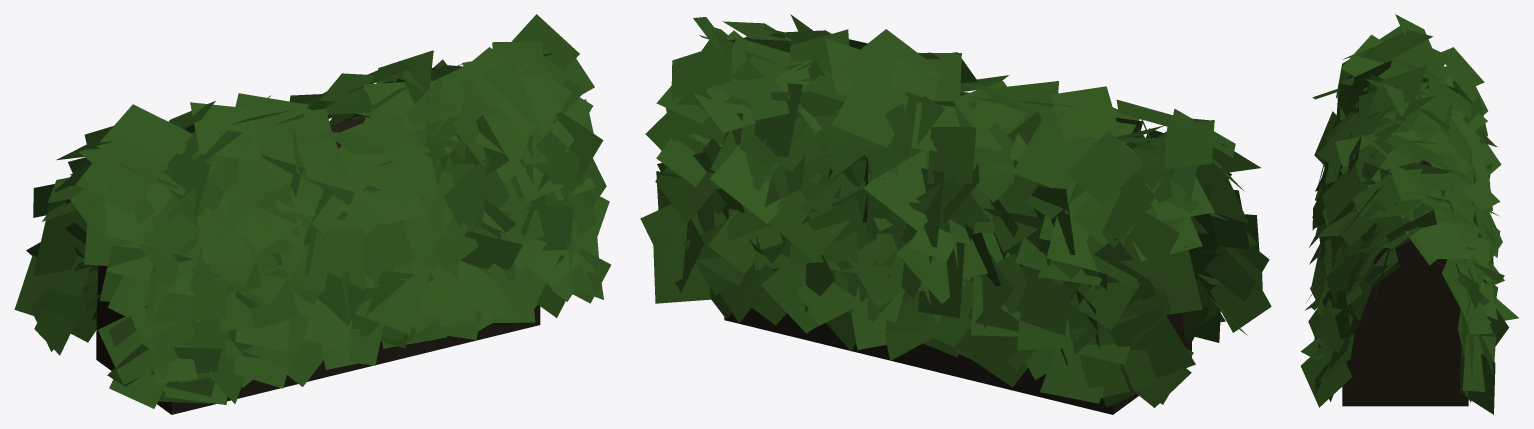
Rendered from hedge_oak.glb.
The picture shows the model from 3 angles, left to right: view 1: azimuth 30°, elevation 25°; view 2: azimuth 150°, elevation 25°; view 3: azimuth 270°, elevation 25°; orthographic projection. The views are drawn at different scales.
Visible parts, largest first — view 1: hedge_oak_lod0; view 2: hedge_oak_lod0; view 3: hedge_oak_lod0.
Part boxes in pixels (x1,y1,x2,y2): hedge_oak_lod0: (14, 14, 610, 414); hedge_oak_lod0: (640, 14, 1271, 414); hedge_oak_lod0: (1300, 14, 1518, 414).
Size of what is drawn, in the model's own units: 4.82 by 2.36 by 2.08.
